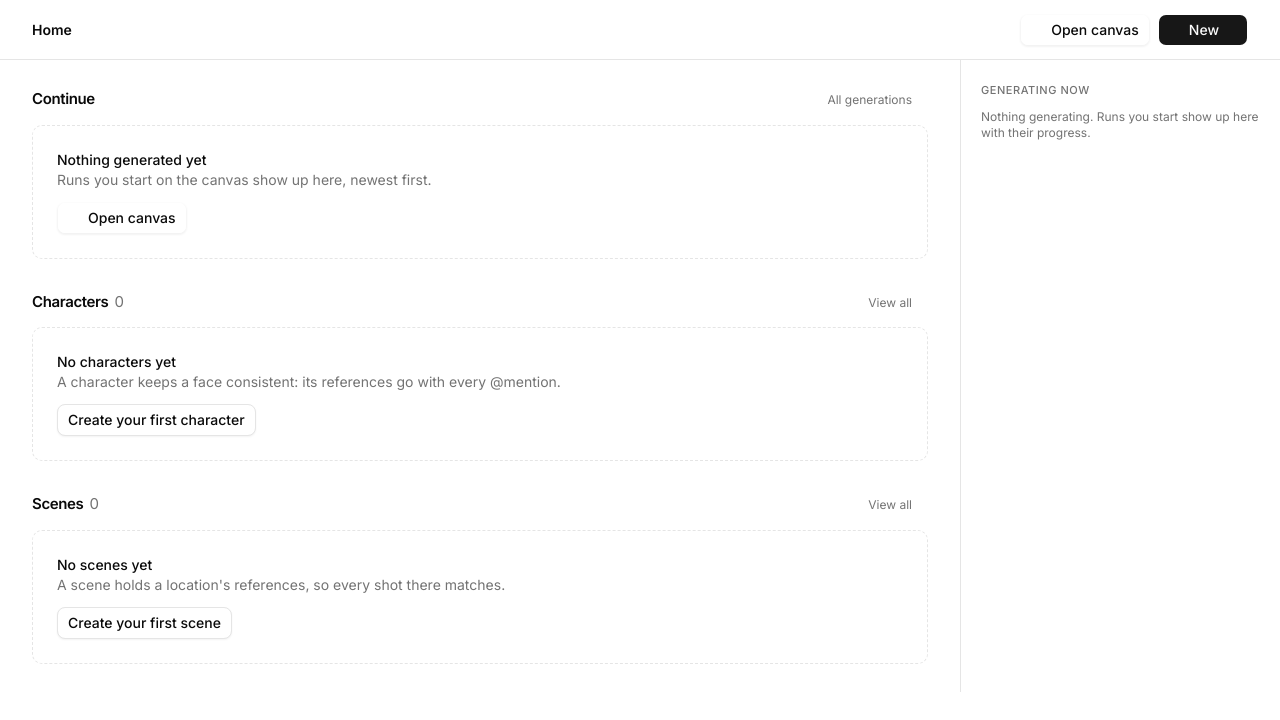
Test: Home › creates from the New menu too
This screenshot has width=1280, height=720.
Click the button "New". click: {"x": 1203, "y": 30}
box: [1158,14,1248,46]
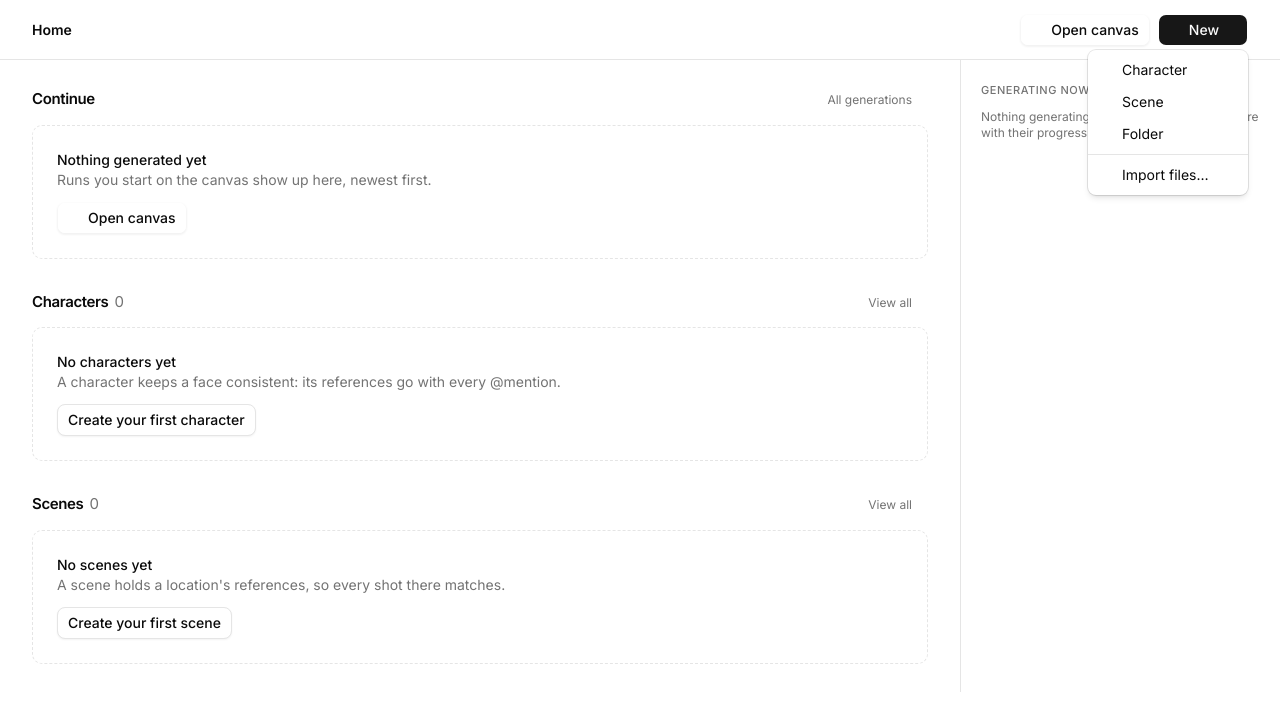
Click the menu item "Scene". click: {"x": 1143, "y": 102}
box: [1122,93,1164,110]
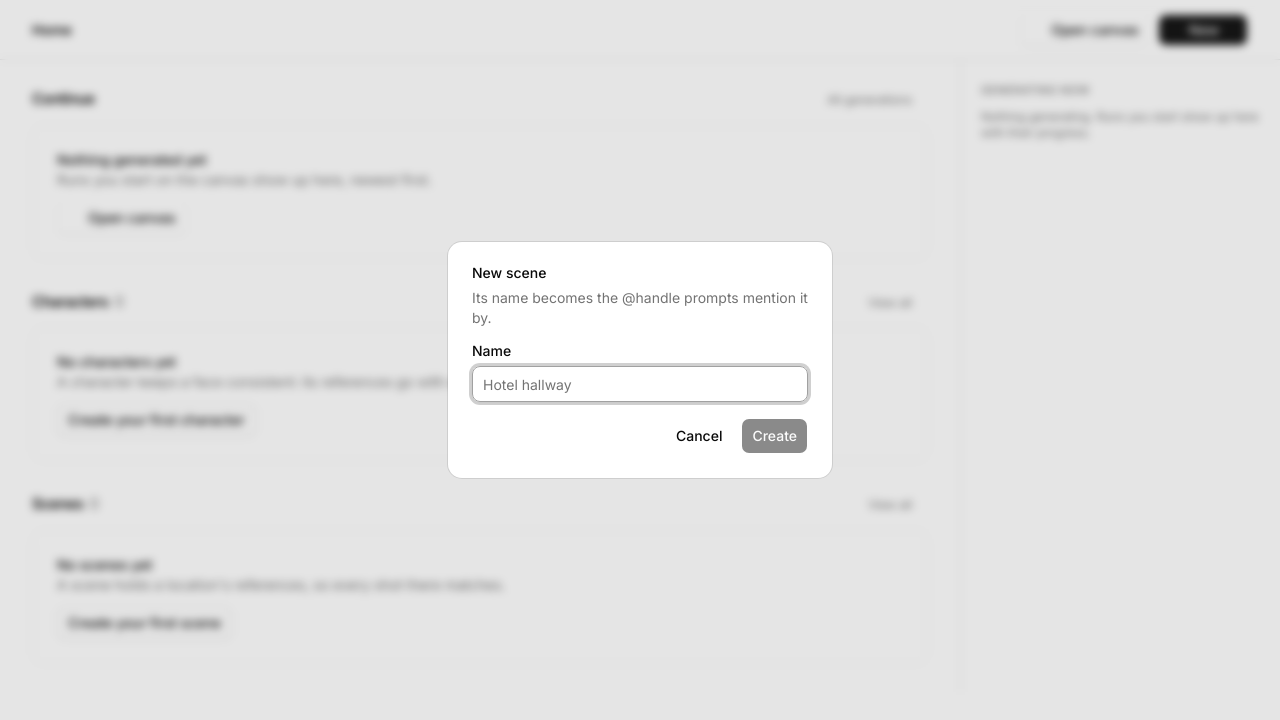
expect the dialog shows "New scene": met, box [472,264,546,281]
